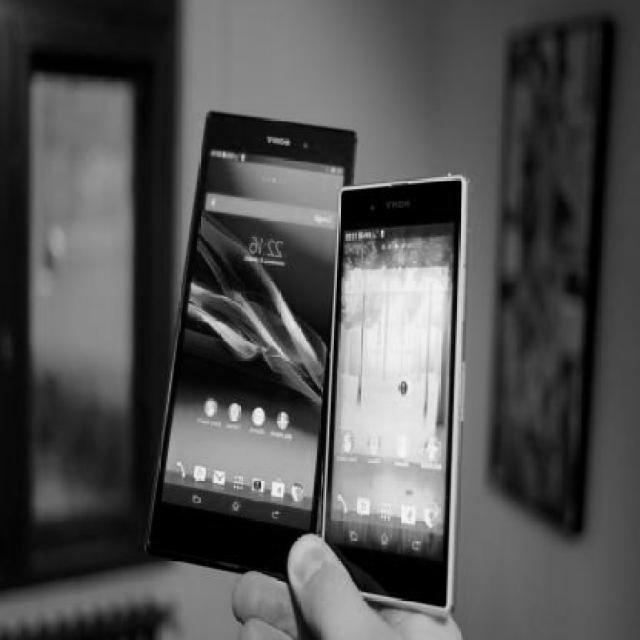fake: (149, 122, 351, 568), (320, 172, 472, 618)
